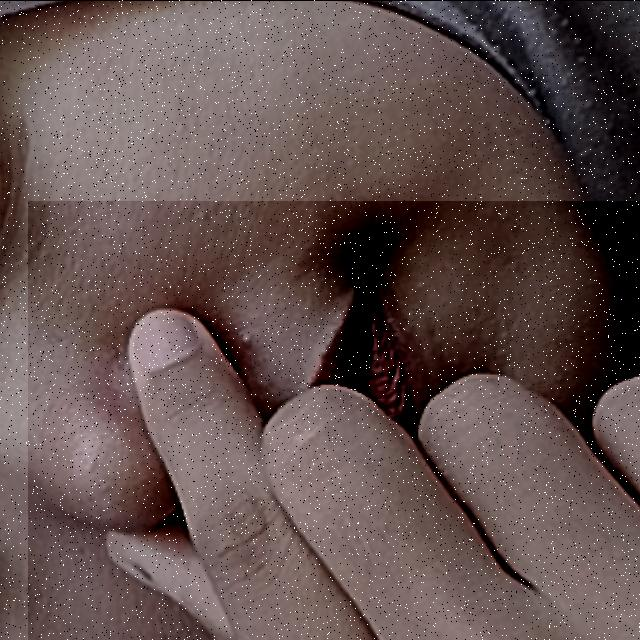bau: (28, 200, 640, 640)
